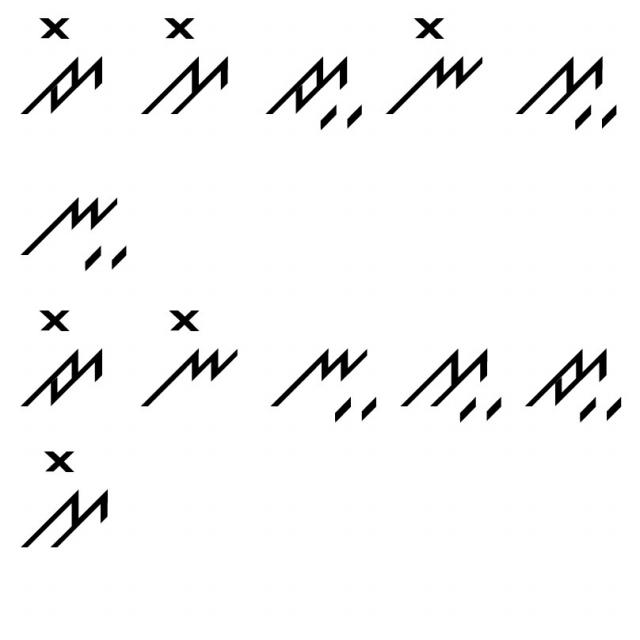jah: (255, 45, 365, 132), (524, 334, 628, 424)
jo: (12, 10, 104, 122), (17, 301, 108, 410)
nyah: (266, 334, 382, 430), (15, 187, 137, 277)
nyo: (376, 12, 488, 122), (135, 301, 240, 412)
sah: (511, 40, 627, 137), (395, 338, 507, 426)
so: (17, 442, 114, 554), (142, 12, 238, 122)
